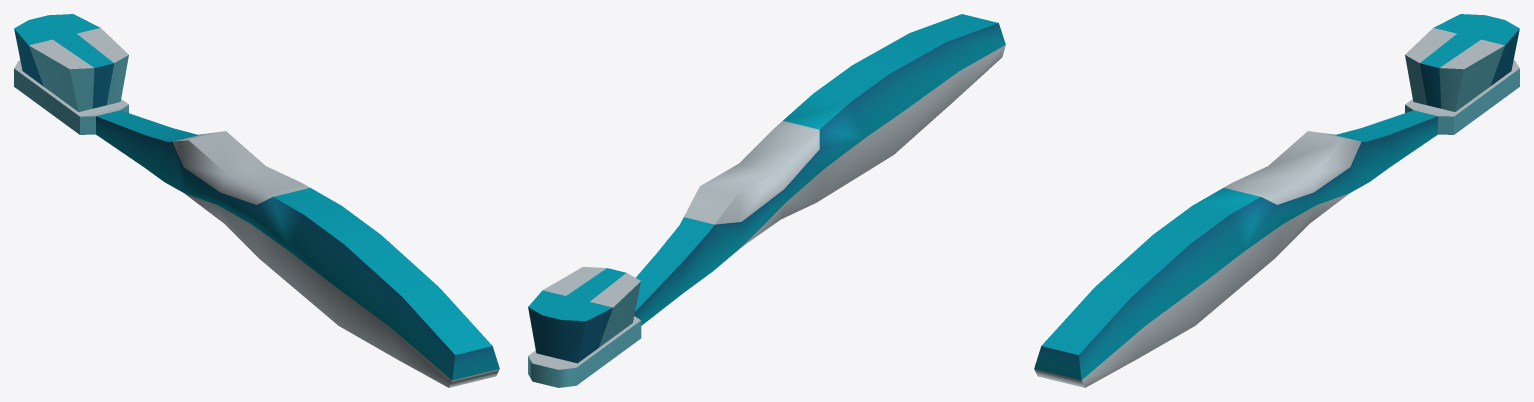
The model's file is human-household-items-toothbrush_v1.glb.
3 renders of one model, left to right at view 1: azimuth 30°, elevation 25°; view 2: azimuth 150°, elevation 25°; view 3: azimuth 330°, elevation 25°, orthographic.
Parts seen in each view (by area): view 1: Toothbrush.001; view 2: Toothbrush.001; view 3: Toothbrush.001.
Boxes of the visible parts, x1,y1,x2,y2 form: Toothbrush.001: (14,14,499,387); Toothbrush.001: (528,14,1005,387); Toothbrush.001: (1034,14,1519,387).
Size of the model in its own units: 0.0178 by 0.0191 by 0.19.
